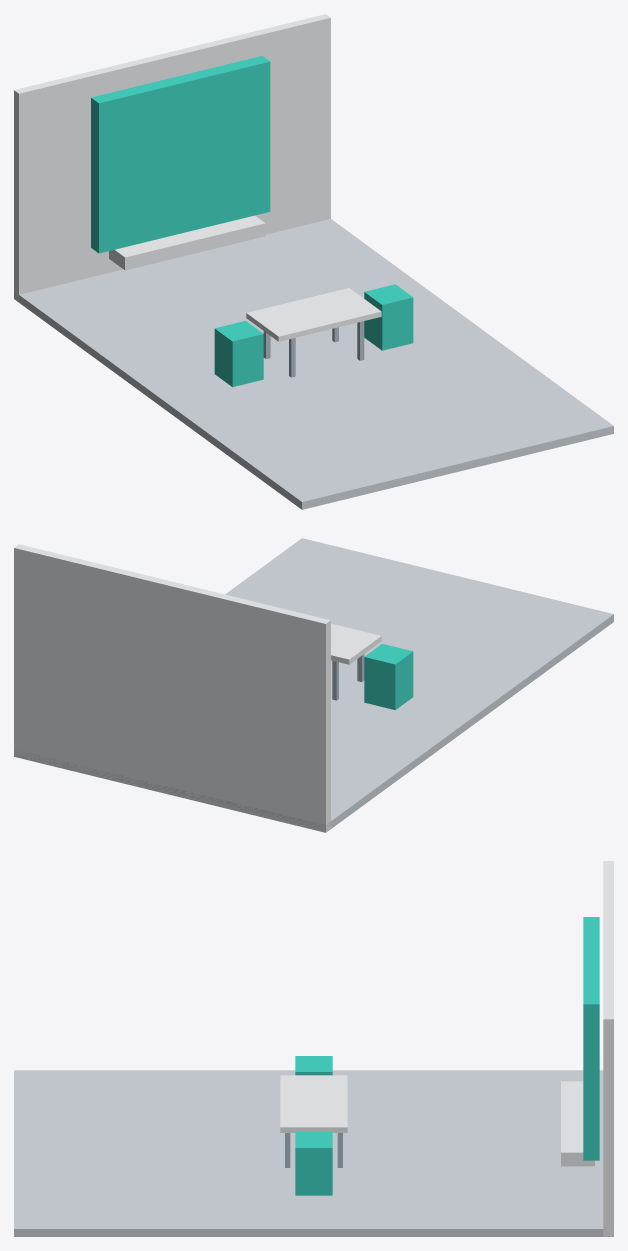
The picture shows the model from 3 angles, top to bottom: view 1: azimuth 30°, elevation 25°; view 2: azimuth 150°, elevation 25°; view 3: azimuth 270°, elevation 25°; orthographic projection. The views are drawn at different scales.
Parts seen in each view (by area): view 1: Exhibition Booth Concept; view 2: Exhibition Booth Concept; view 3: Exhibition Booth Concept.
Part boxes in pixels (bbox=[...]): Exhibition Booth Concept: bbox=[14, 14, 613, 509]; Exhibition Booth Concept: bbox=[14, 538, 613, 832]; Exhibition Booth Concept: bbox=[14, 861, 613, 1236].
Size of the model in its own units: 5 by 3.2 by 8.
